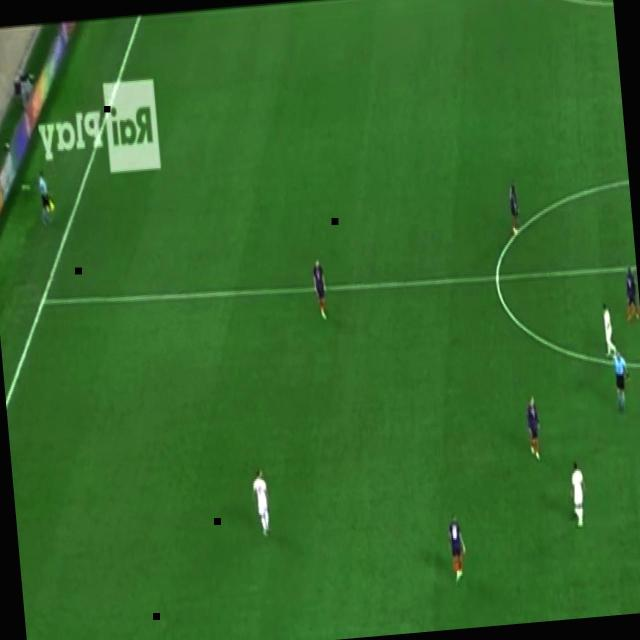player-white: (247, 461, 275, 543), (566, 457, 594, 534), (444, 509, 471, 587), (605, 348, 636, 414), (33, 162, 59, 229), (522, 390, 546, 460), (309, 253, 330, 325), (598, 296, 620, 364), (618, 259, 640, 326), (506, 178, 524, 239)
